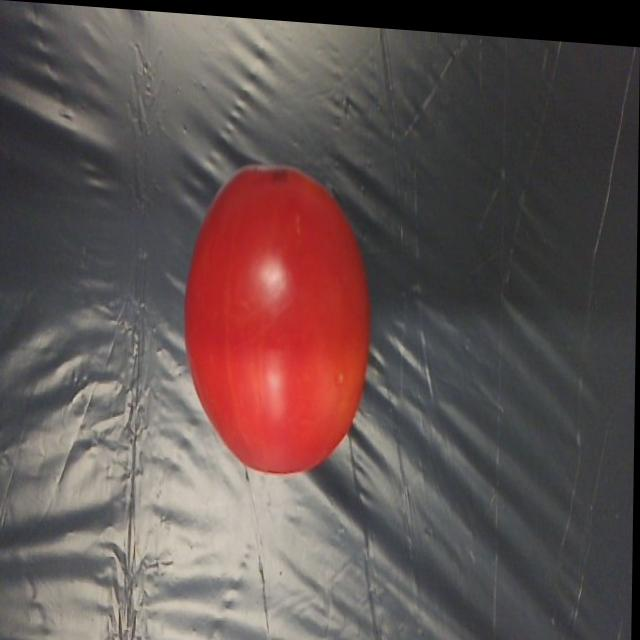kirmizi: (183, 136, 386, 487)
